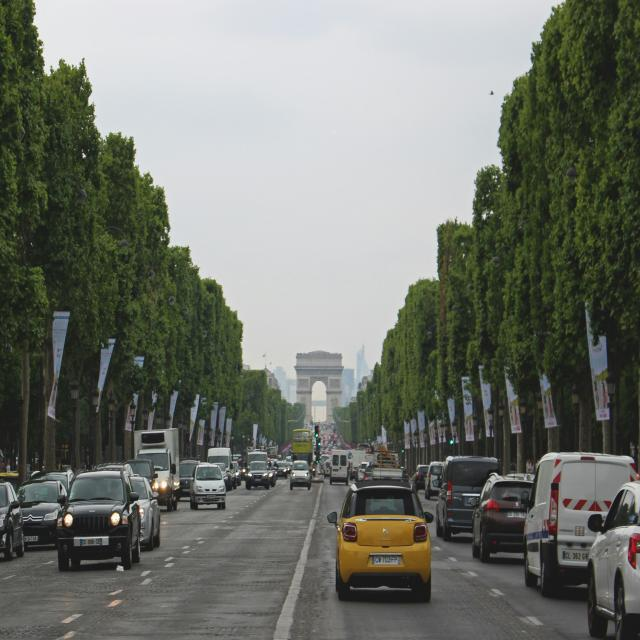Bus: (292, 428, 313, 466)
Car: (327, 481, 434, 602), (56, 469, 142, 571), (586, 480, 640, 640), (472, 472, 534, 562), (16, 478, 67, 548), (128, 474, 161, 550), (0, 481, 24, 560), (190, 462, 226, 510), (245, 461, 271, 489), (289, 460, 312, 490), (414, 465, 429, 490)
Truck: (133, 428, 180, 510)
